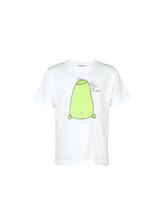clothoes: (38, 60, 132, 169)
